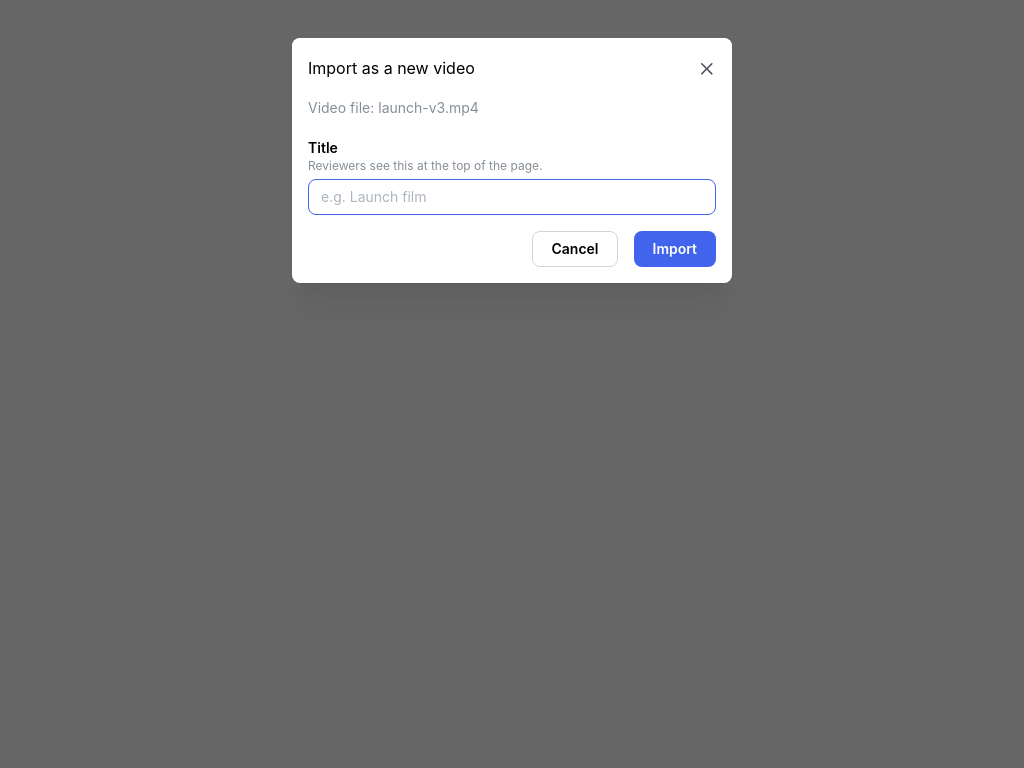
Scenario: ImportModal › import modal validates title and shows the server reason on failure
Type "Launch" into the field with test id "admin-import-title" at (512,197), box [308,179,716,215]
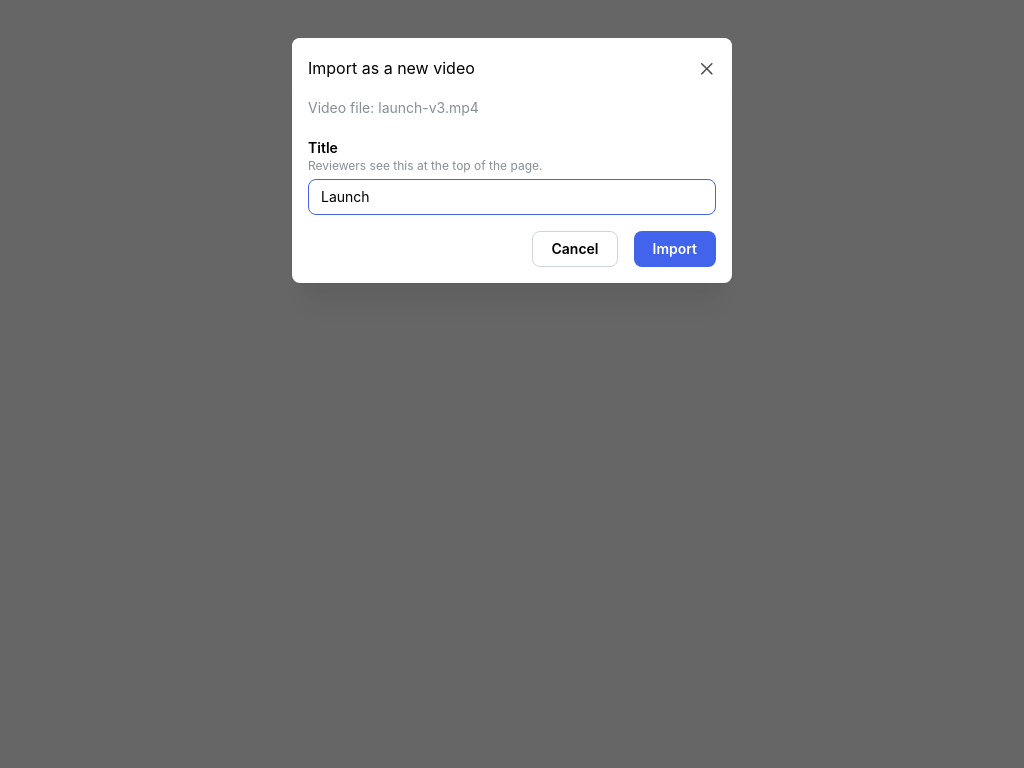
Click the button with test id "admin-import-submit" at (675,249), box [634,231,716,267]
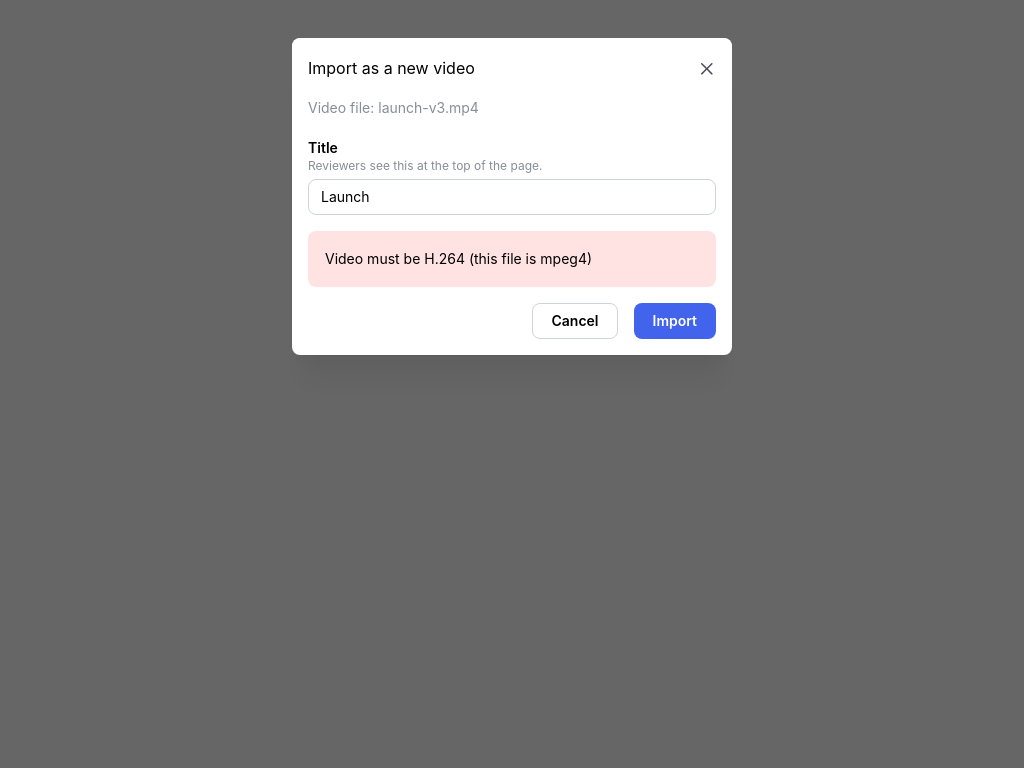
Expected: the message with test id "admin-import-error" shows "H.264", [325,250,592,267]
